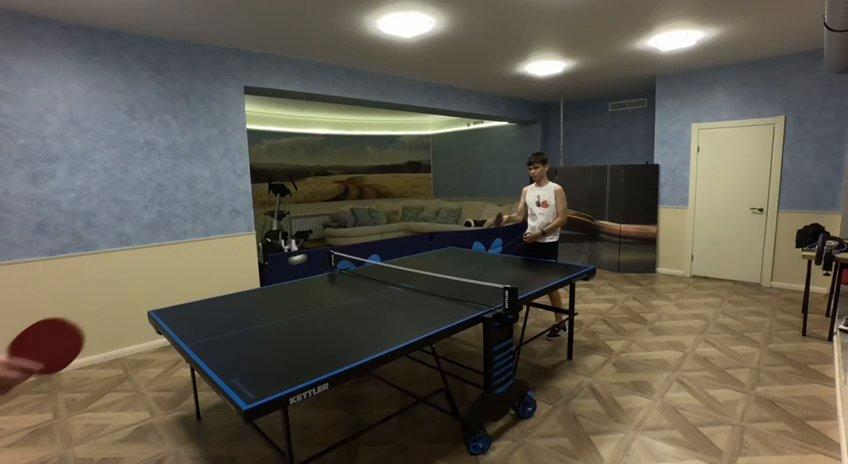Ball: (290, 252, 307, 265)
Net: (327, 251, 515, 308)
Player1: (508, 152, 566, 259)
Table: (149, 247, 594, 409)
